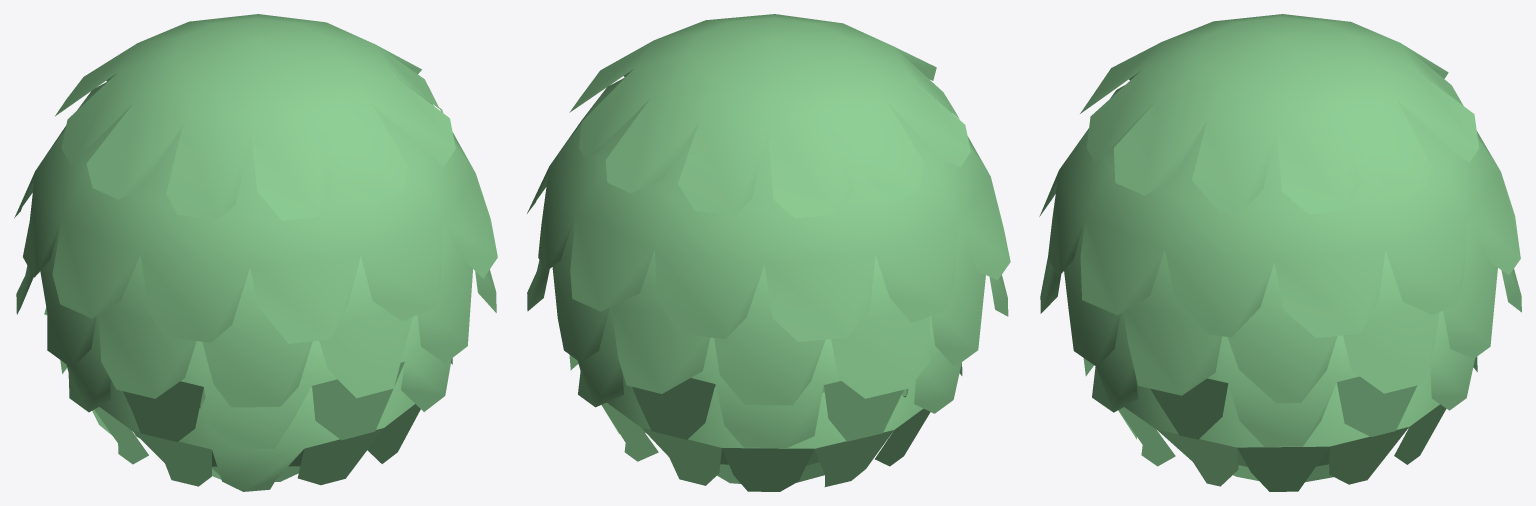
File: Bush1.005.fbx
3 views of the same model, side by side, from view 1: azimuth 30°, elevation 25°; view 2: azimuth 150°, elevation 25°; view 3: azimuth 270°, elevation 25° (orthographic).
Parts seen in each view (by area): view 1: Bush1.005; view 2: Bush1.005; view 3: Bush1.005.
Boxes of the visible parts, bbox=[...] form: Bush1.005: bbox=[14, 14, 497, 491]; Bush1.005: bbox=[527, 14, 1010, 491]; Bush1.005: bbox=[1039, 14, 1521, 491].
Size of the model in its own units: 105 by 102 by 103.
